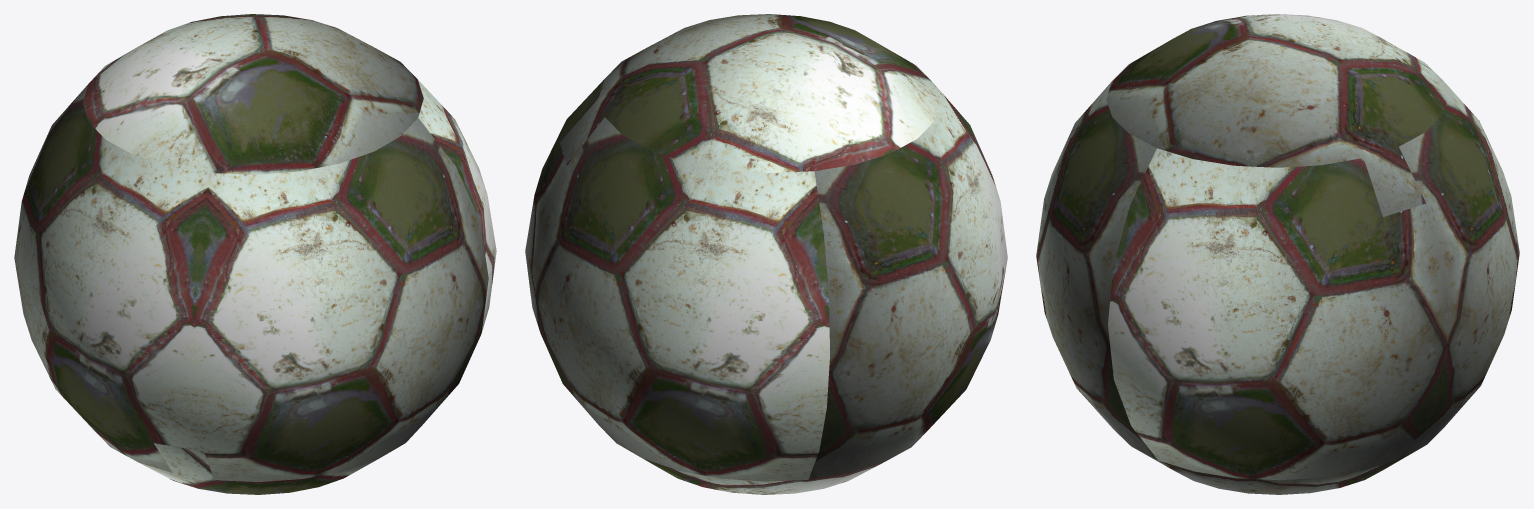
Rendered from SM_Ball01.fbx.
The picture shows the model from 3 angles, left to right: view 1: azimuth 30°, elevation 25°; view 2: azimuth 150°, elevation 25°; view 3: azimuth 270°, elevation 25°; orthographic projection.
Parts seen in each view (by area): view 1: SM_Ball01; view 2: SM_Ball01; view 3: SM_Ball01.
Boxes of the visible parts, x1=… form: SM_Ball01: x1=14, y1=14, x2=496, y2=494; SM_Ball01: x1=525, y1=14, x2=1007, y2=494; SM_Ball01: x1=1036, y1=14, x2=1519, y2=494.
Size of the model in its own units: 97.17 by 97.17 by 97.18.
